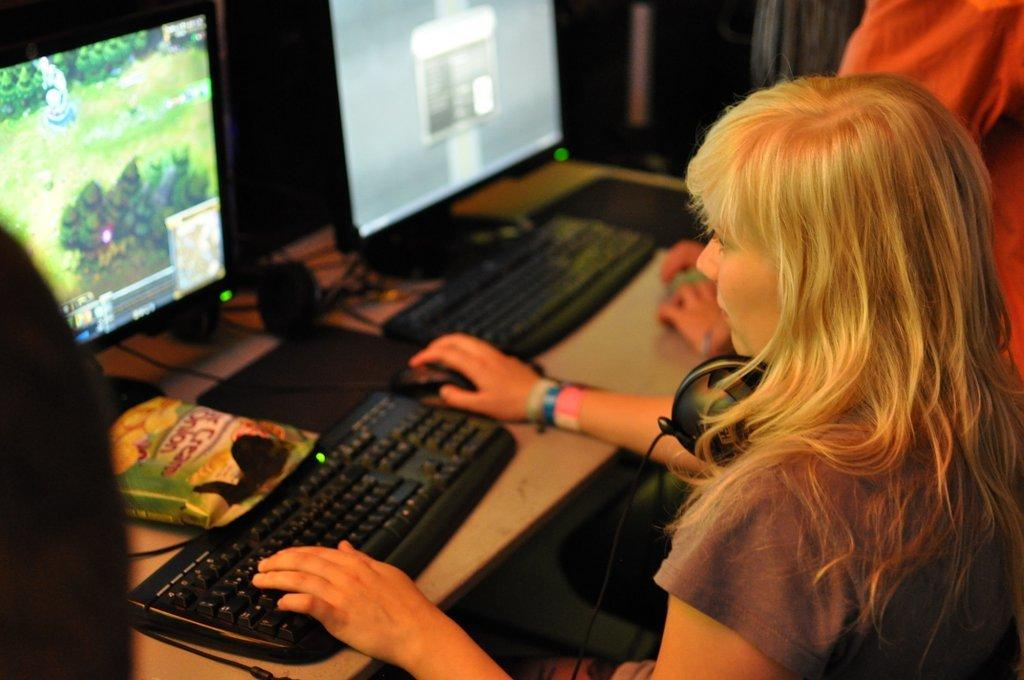Computer-keyboard: (131, 390, 522, 663), (378, 212, 655, 362)
Computer-monitor: (0, 0, 257, 390), (293, 0, 599, 253)
